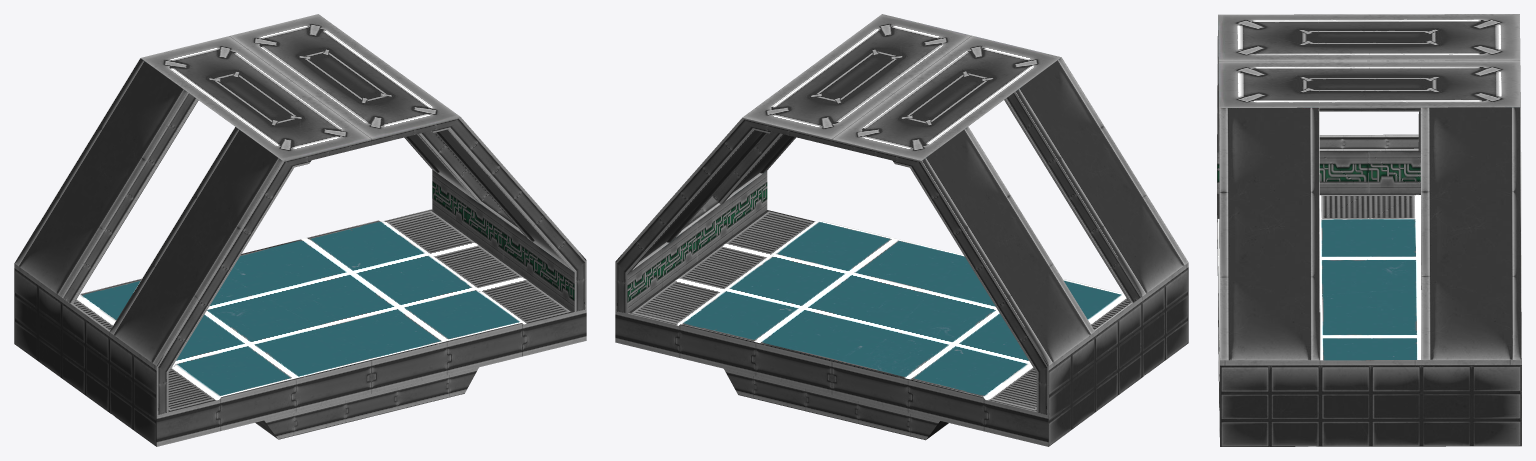
The model's file is ARC1110005.fbx.
The picture shows the model from 3 angles, left to right: view 1: azimuth 30°, elevation 25°; view 2: azimuth 150°, elevation 25°; view 3: azimuth 270°, elevation 25°; orthographic projection. The views are drawn at different scales.
Visible parts, largest first — view 1: smARC1110005; view 2: smARC1110005; view 3: smARC1110005.
Boxes of the visible parts, <box> form: smARC1110005: <box>14,14,586,446</box>; smARC1110005: <box>615,14,1188,446</box>; smARC1110005: <box>1217,14,1521,446</box>.
Bounding box in the file's own units: 530 × 326 × 302.
Materials: 1 (1 with a texture image).
